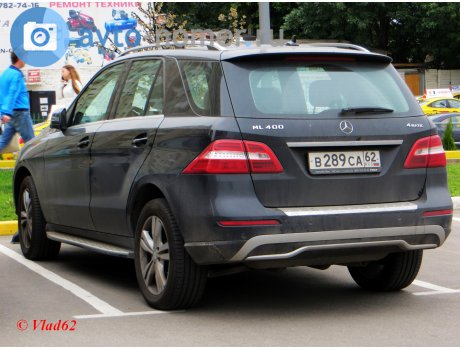car license plate: (307, 146, 383, 176)
